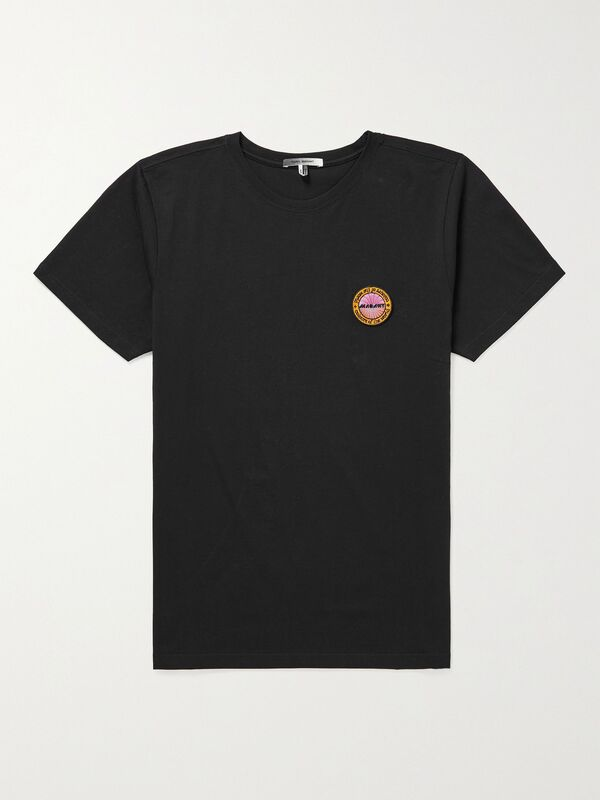tshirt: (30, 123, 567, 674)
